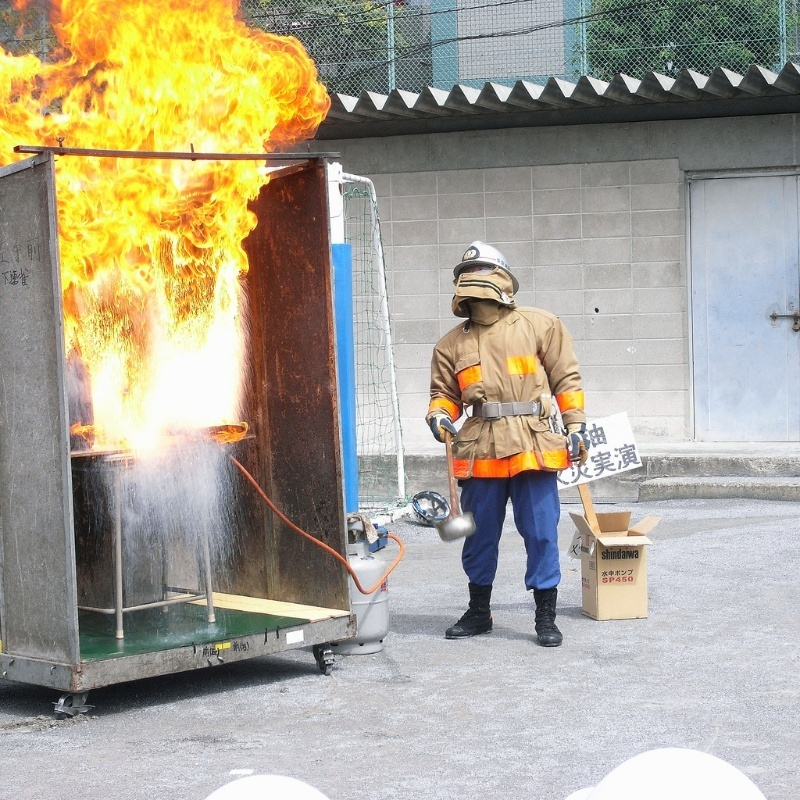fire: (11, 0, 352, 469), (504, 350, 539, 376)
